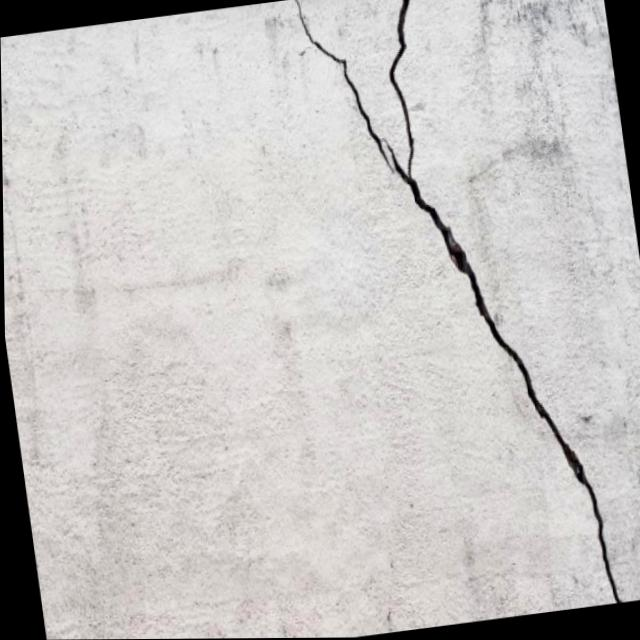Crack: (281, 0, 629, 636)
